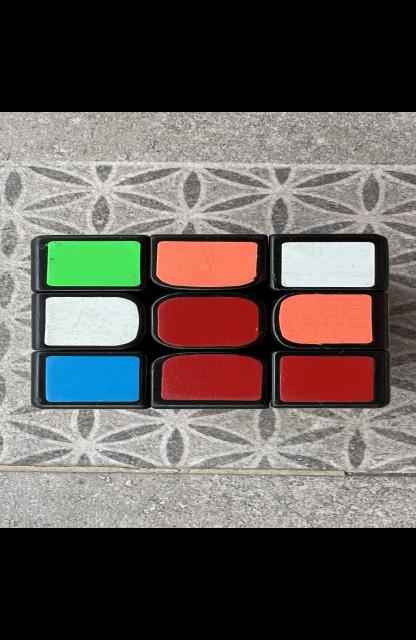Blue: (45, 356, 140, 402)
Green: (46, 241, 140, 287)
Orange: (155, 241, 256, 288), (278, 294, 371, 344)
Red: (156, 297, 258, 347), (160, 354, 261, 400), (280, 356, 373, 402)
White: (43, 297, 138, 346), (280, 242, 375, 288)
